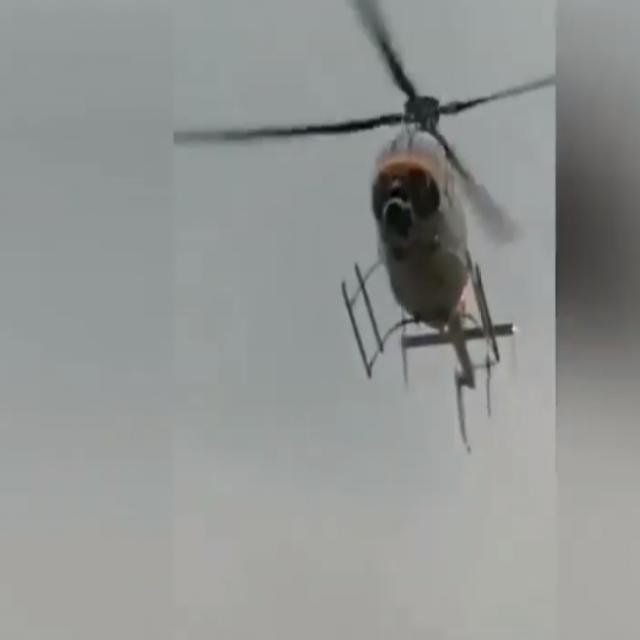helicopter: (176, 1, 558, 454)
